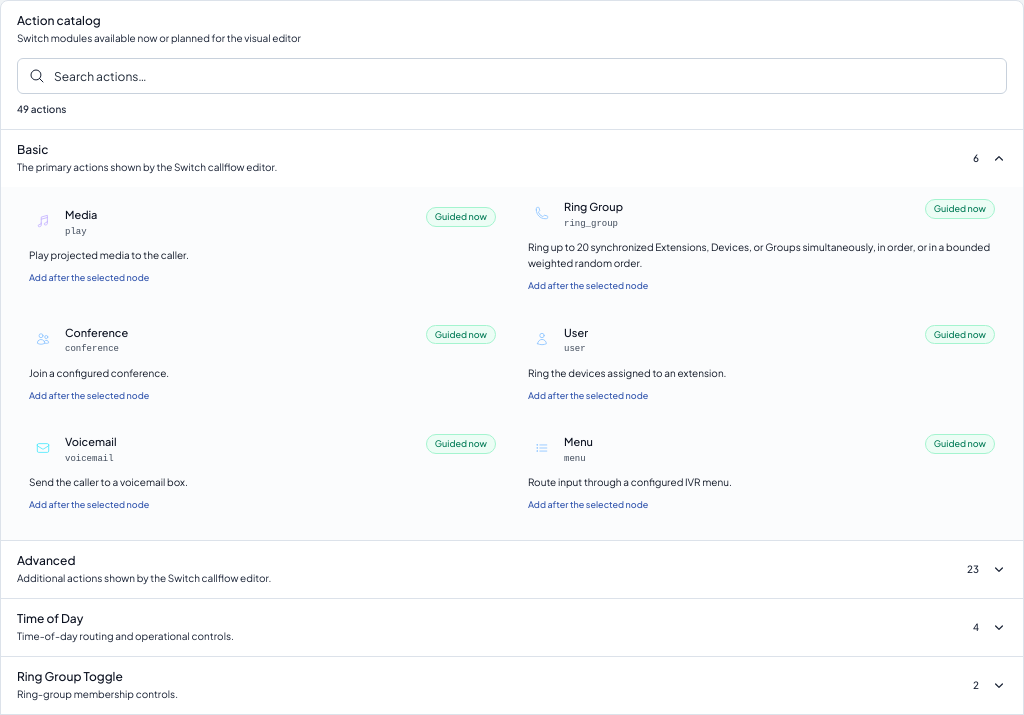
Test: CallflowActionPalette › shows the server runtime-gate reason and keeps Webhook non-interactive
Type "webhook" into the search field with placeholder "Search actions…" at (512, 76), box left=17, top=58, right=1007, bottom=94
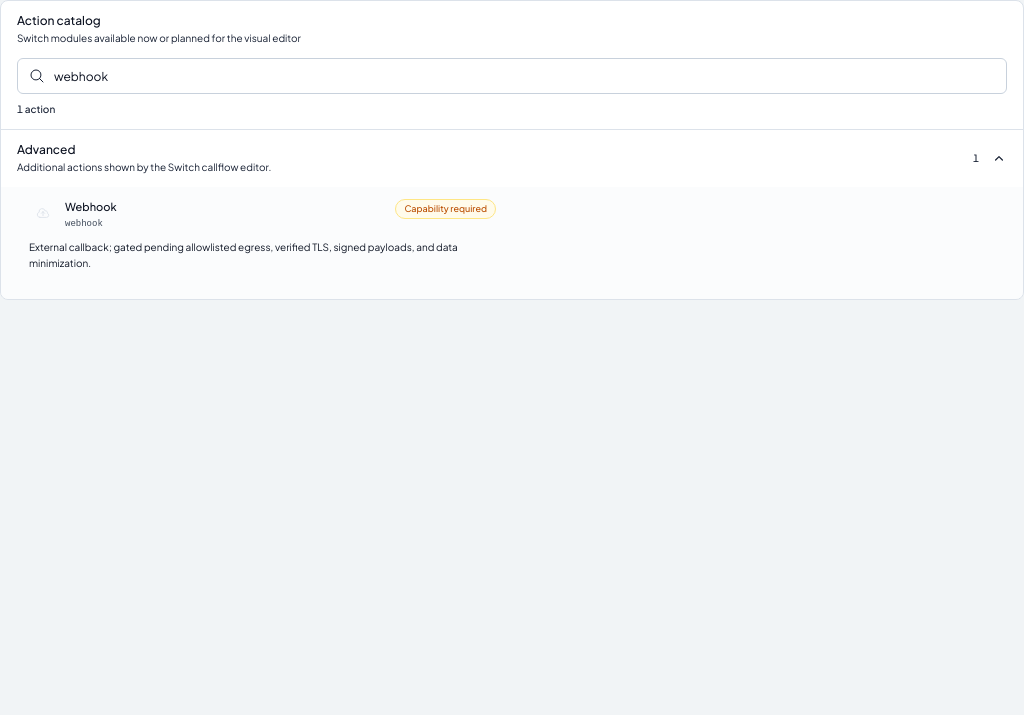
Check: the button with aria-label "Webhook · webhook · Capability required · No active administ" is disabled, box left=17, top=187, right=508, bottom=283
Check: the text "Capability required" is shown, box left=395, top=199, right=496, bottom=218
